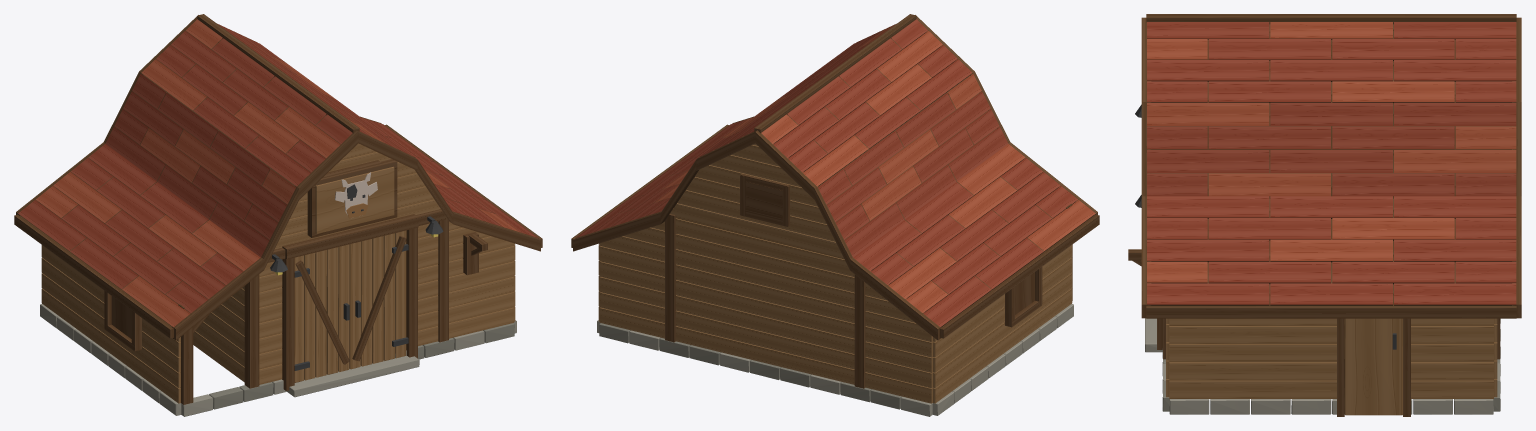
File: BarnExterior_B_Medium.fbx
3 views of the same model, side by side, from view 1: azimuth 30°, elevation 25°; view 2: azimuth 150°, elevation 25°; view 3: azimuth 270°, elevation 25° (orthographic). The views are drawn at different scales.
Visible parts, largest first — view 1: BarnB_Medium; view 2: BarnB_Medium; view 3: BarnB_Medium.
Boxes of the visible parts, x1,y1,x2,y2 form: BarnB_Medium: [14, 14, 542, 416]; BarnB_Medium: [571, 14, 1099, 416]; BarnB_Medium: [1128, 14, 1521, 416].
Bounding box in the file's own units: 7.86 × 5.1 × 6.06.
